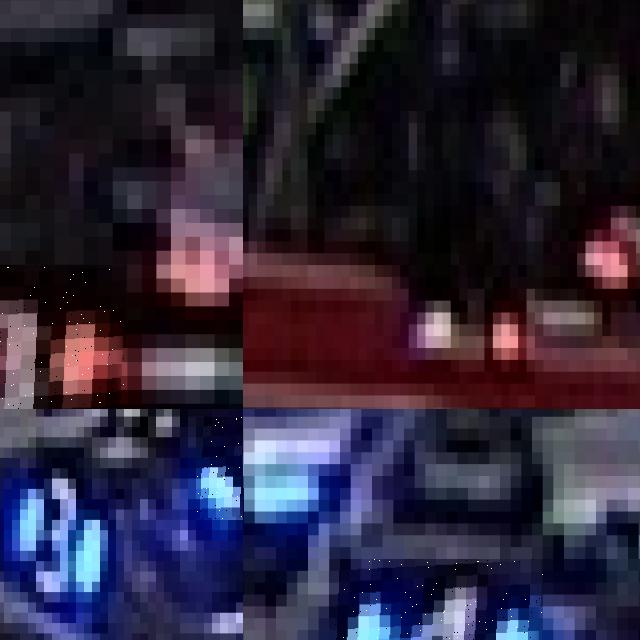B3: (0, 468, 116, 592), (196, 416, 243, 519)
B4: (329, 559, 542, 640)
R3: (0, 264, 127, 409)
